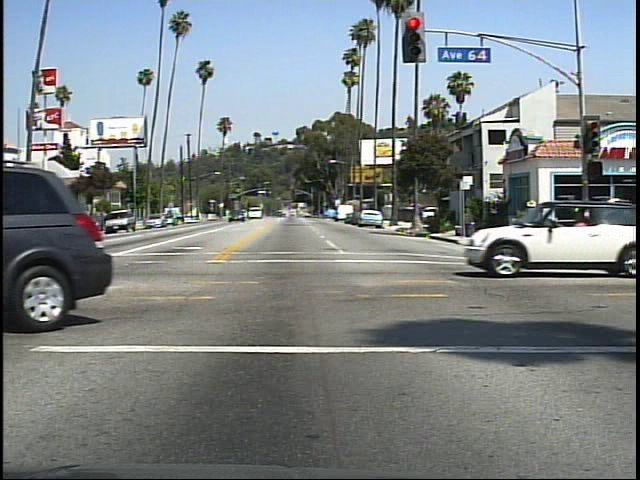person: (521, 195, 549, 224)
